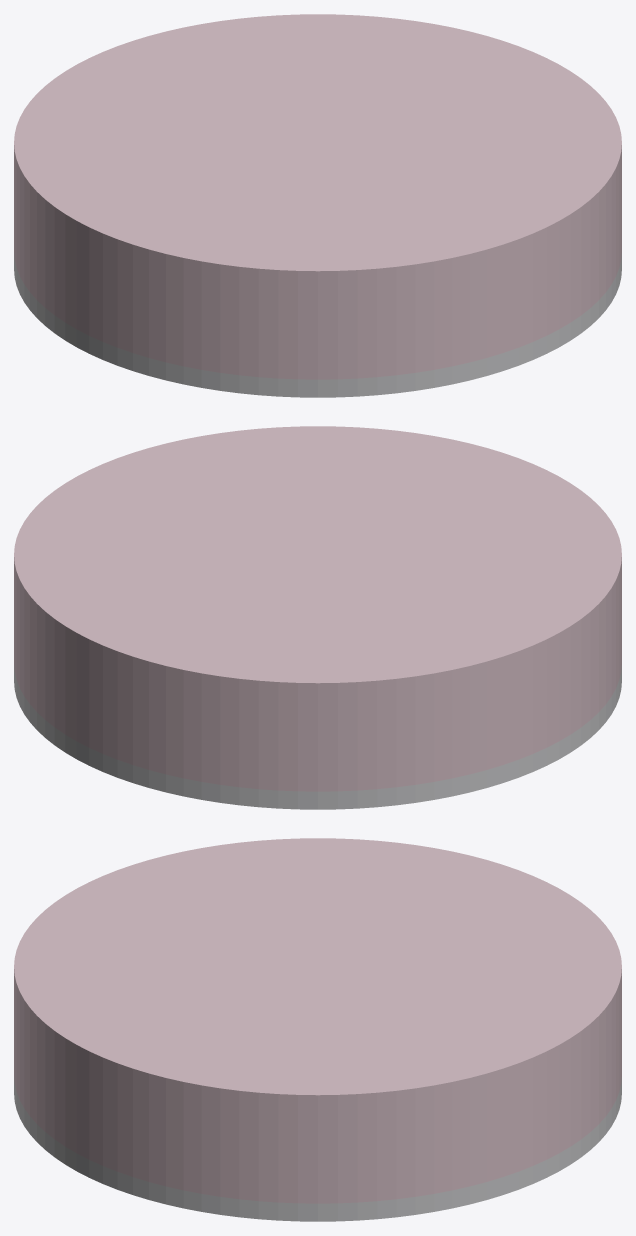
Rendered from cake_6in_layers1.glb.
The picture shows the model from 3 angles, top to bottom: view 1: azimuth 30°, elevation 25°; view 2: azimuth 150°, elevation 25°; view 3: azimuth 270°, elevation 25°; orthographic projection.
Visible parts, largest first — view 1: geometry_0, geometry_1; view 2: geometry_0, geometry_1; view 3: geometry_0, geometry_1.
Boxes of the visible parts, left/top/right/bottom form: geometry_0: left=14, top=14, right=621, bottom=379; geometry_1: left=14, top=253, right=621, bottom=397; geometry_0: left=14, top=426, right=621, bottom=791; geometry_1: left=14, top=665, right=621, bottom=809; geometry_0: left=14, top=838, right=621, bottom=1203; geometry_1: left=14, top=1077, right=621, bottom=1221.
Size of the model in its own units: 0.1524 by 0.035 by 0.1524.
